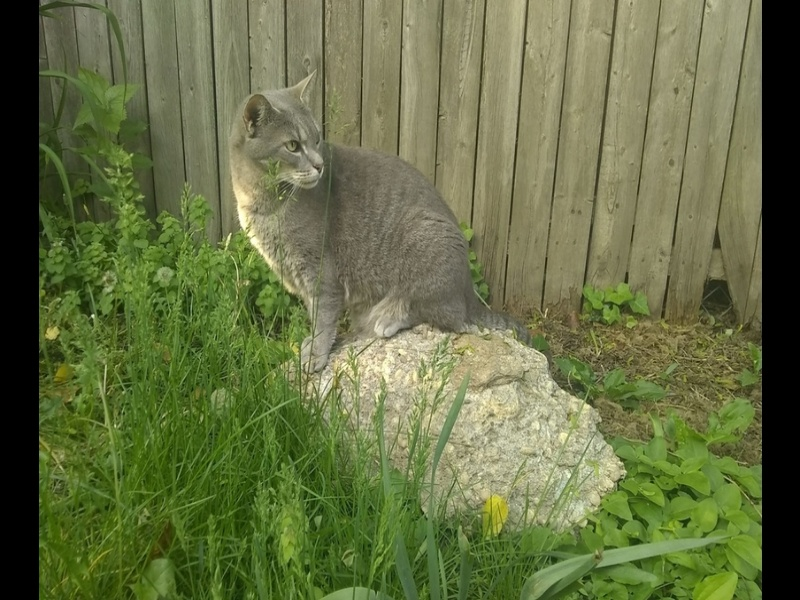cat: (226, 69, 538, 376)
